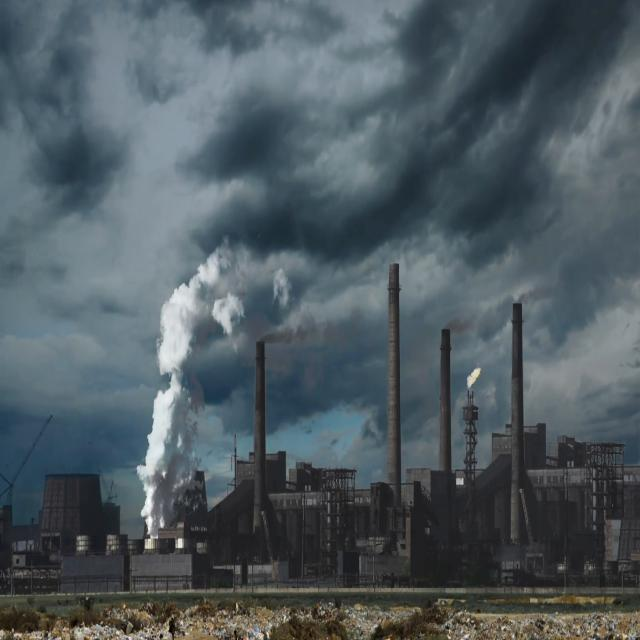Smoke: (136, 235, 293, 539)
